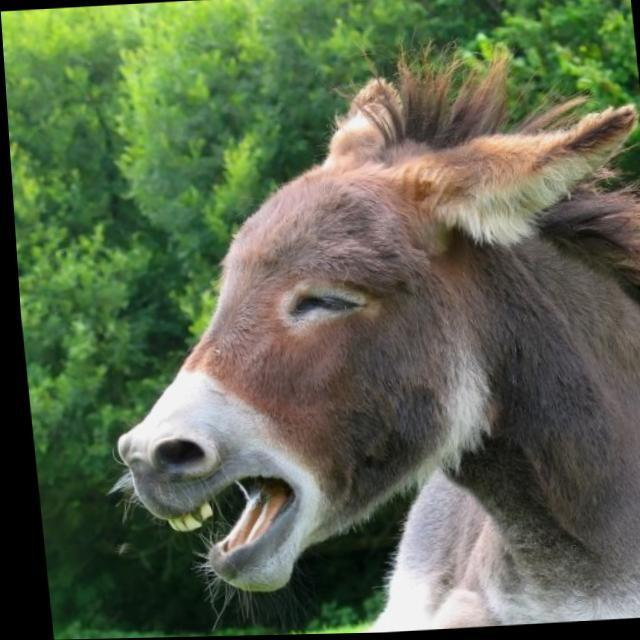Donkey: (95, 71, 640, 638)
